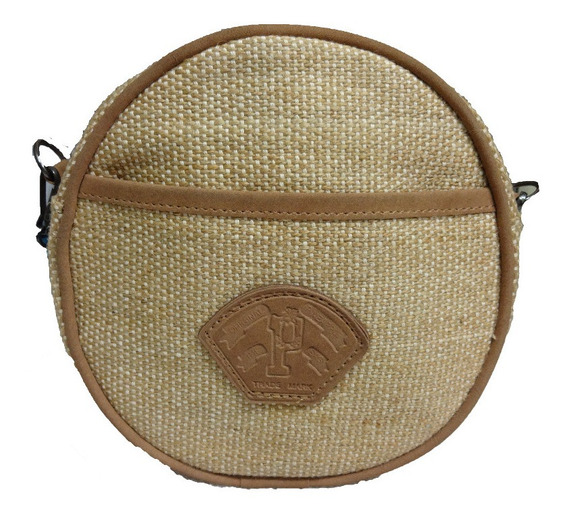cartera: (30, 23, 527, 489)
